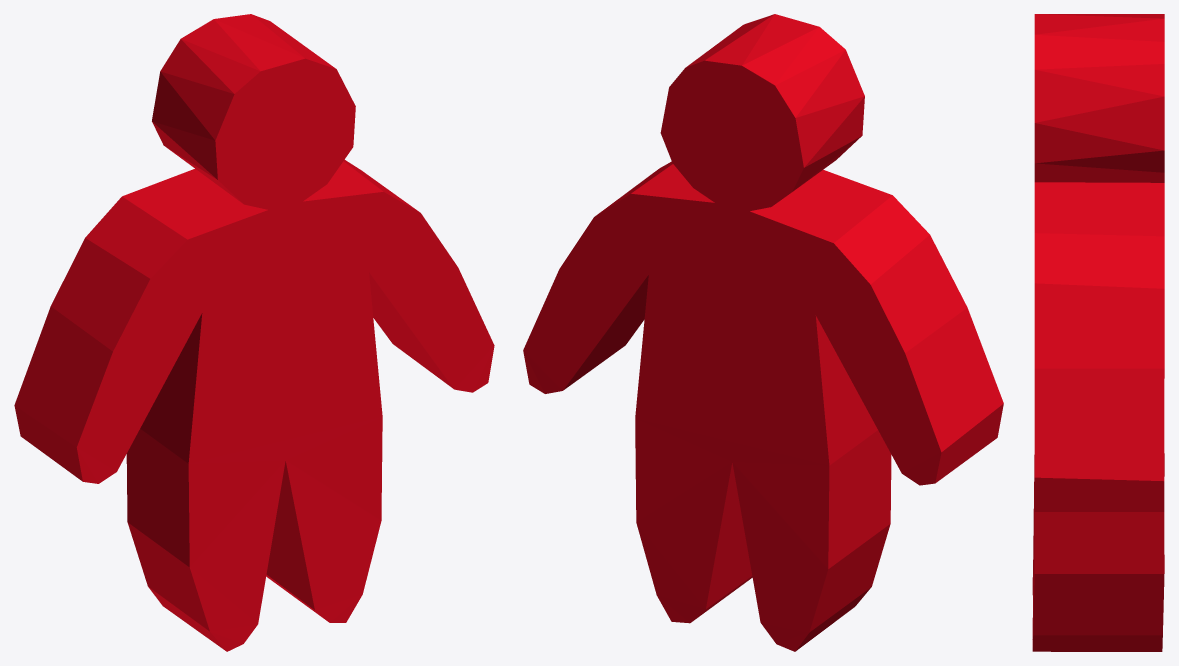
The model's file is meeple_default.fbx.
3 renders of one model, left to right at view 1: azimuth 30°, elevation 25°; view 2: azimuth 150°, elevation 25°; view 3: azimuth 270°, elevation 25°, orthographic. The views are drawn at different scales.
Visible parts, largest first — view 1: Meeple; view 2: Meeple; view 3: Meeple.
Part boxes in pixels (<box>): Meeple: <box>14,14,494,651</box>; Meeple: <box>523,14,1003,651</box>; Meeple: <box>1032,14,1164,651</box>.
Bounding box in the file's own units: 52.83 × 69.4 × 13.88.
